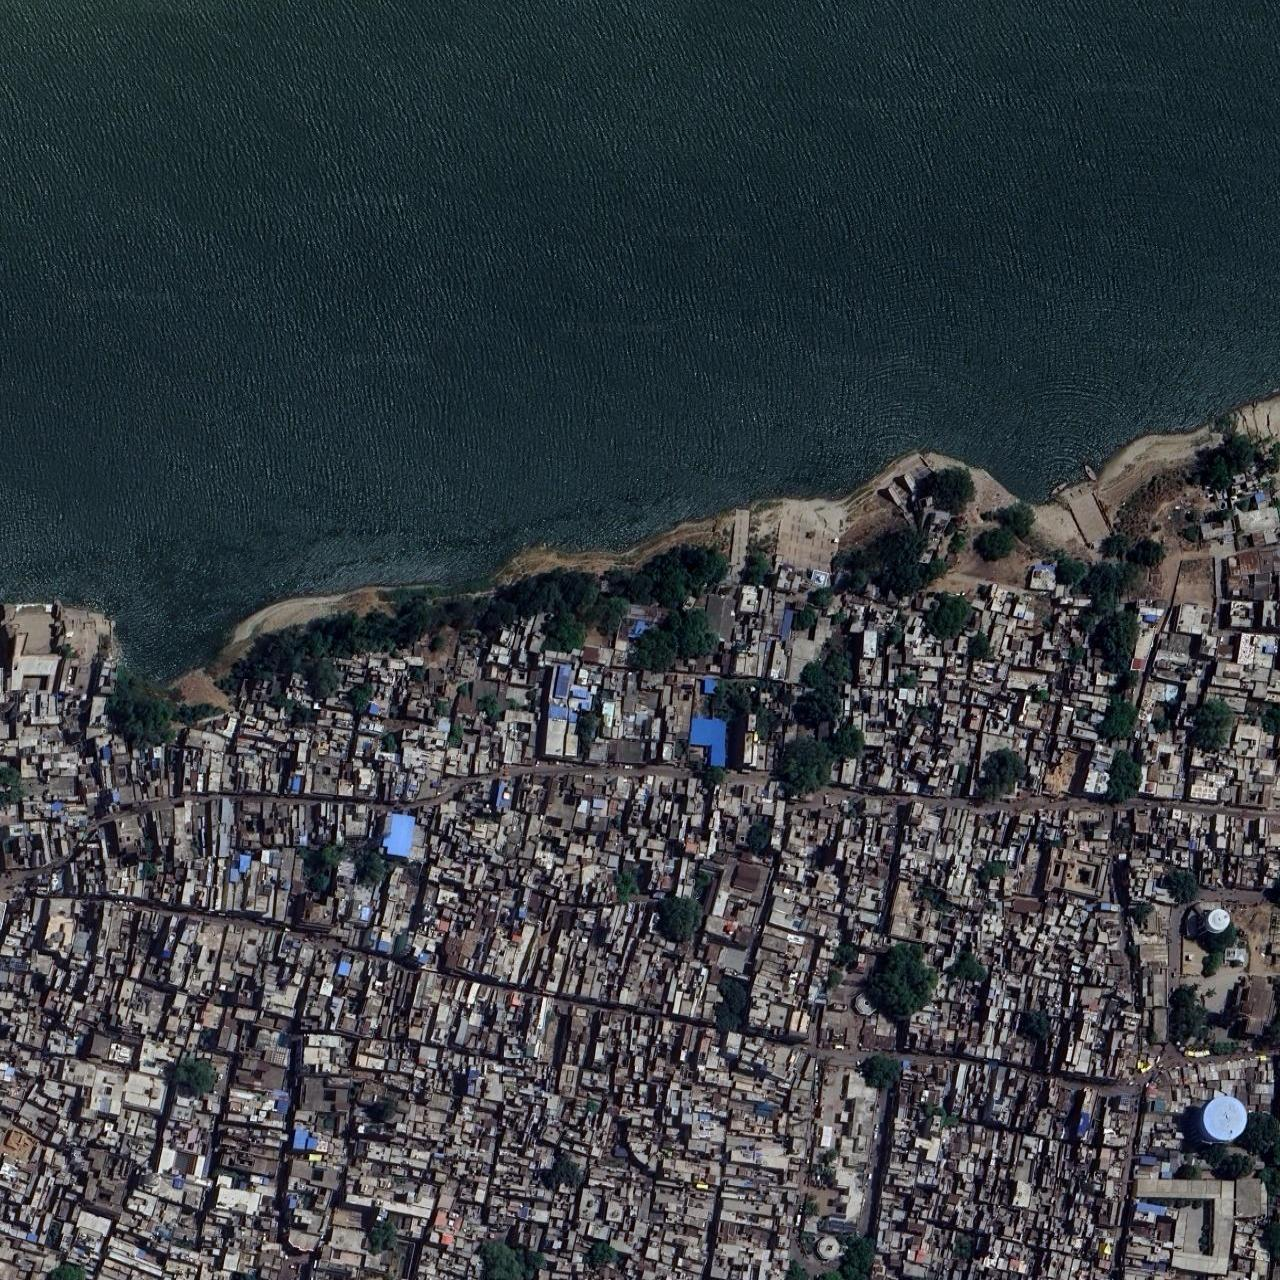greenery: (230, 545, 728, 694), (1077, 560, 1145, 740), (770, 717, 865, 795), (713, 680, 785, 768), (835, 530, 927, 597), (865, 942, 938, 1021), (1190, 430, 1280, 492), (108, 667, 175, 749), (300, 840, 390, 898), (792, 642, 852, 728), (975, 503, 1035, 561), (978, 748, 1024, 798), (715, 975, 750, 1033), (658, 896, 700, 940), (610, 858, 651, 903)
house: (0, 477, 1280, 1280), (0, 602, 309, 1279)
water: (0, 0, 1280, 662)
